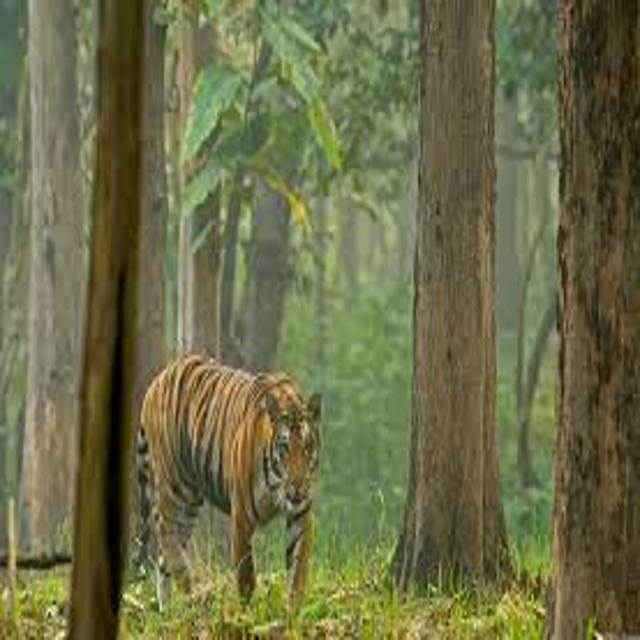tiger: (87, 329, 376, 637)
